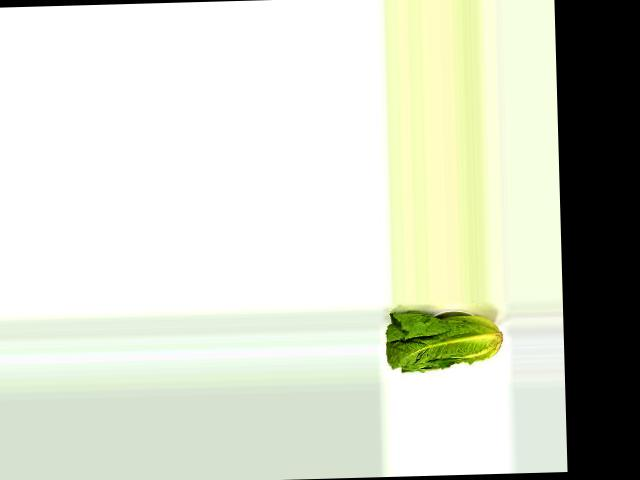lettuce: (385, 307, 504, 375)
